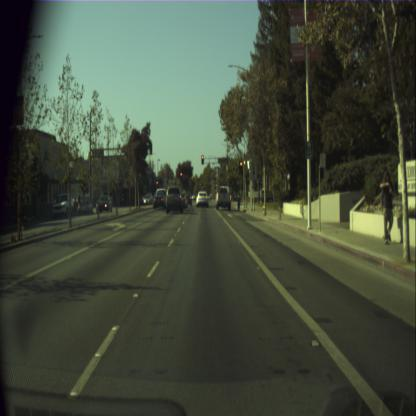Red: (239, 160, 242, 175), (200, 154, 204, 165), (118, 176, 122, 186), (180, 171, 182, 180), (214, 182, 216, 187)
Yellow: (156, 178, 158, 186)
